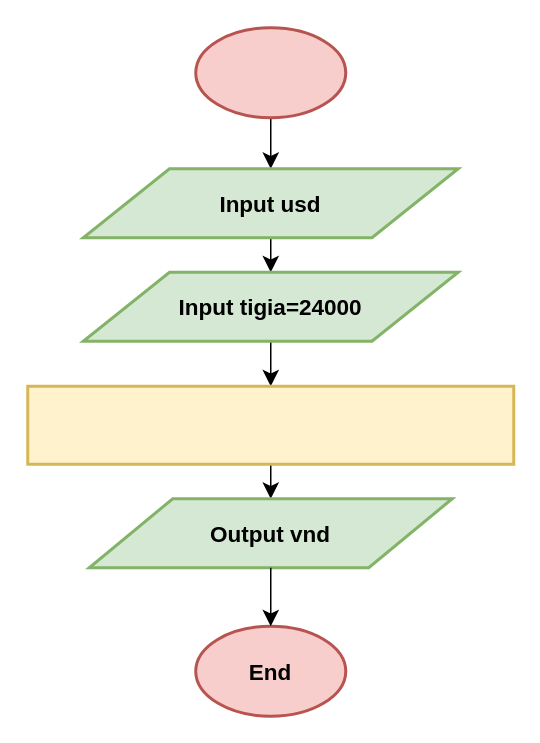
The diagram is 540 pixels wide and 743 high, and some of its shapes have lost their labels. Here are the shapes that lost their labels. From the top down, the centre of each, then its label:
the point at 270,72: Begin
the point at 270,424: vnd= usd*tigia
